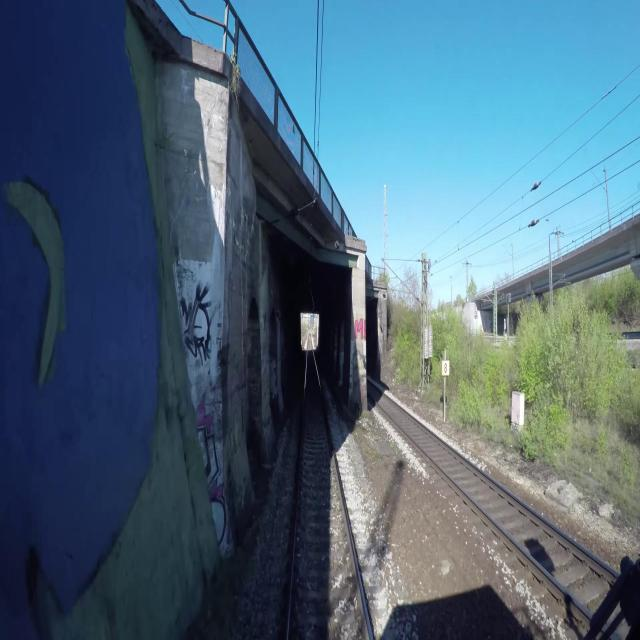rail-track: (367, 383, 609, 607), (290, 341, 368, 639)
